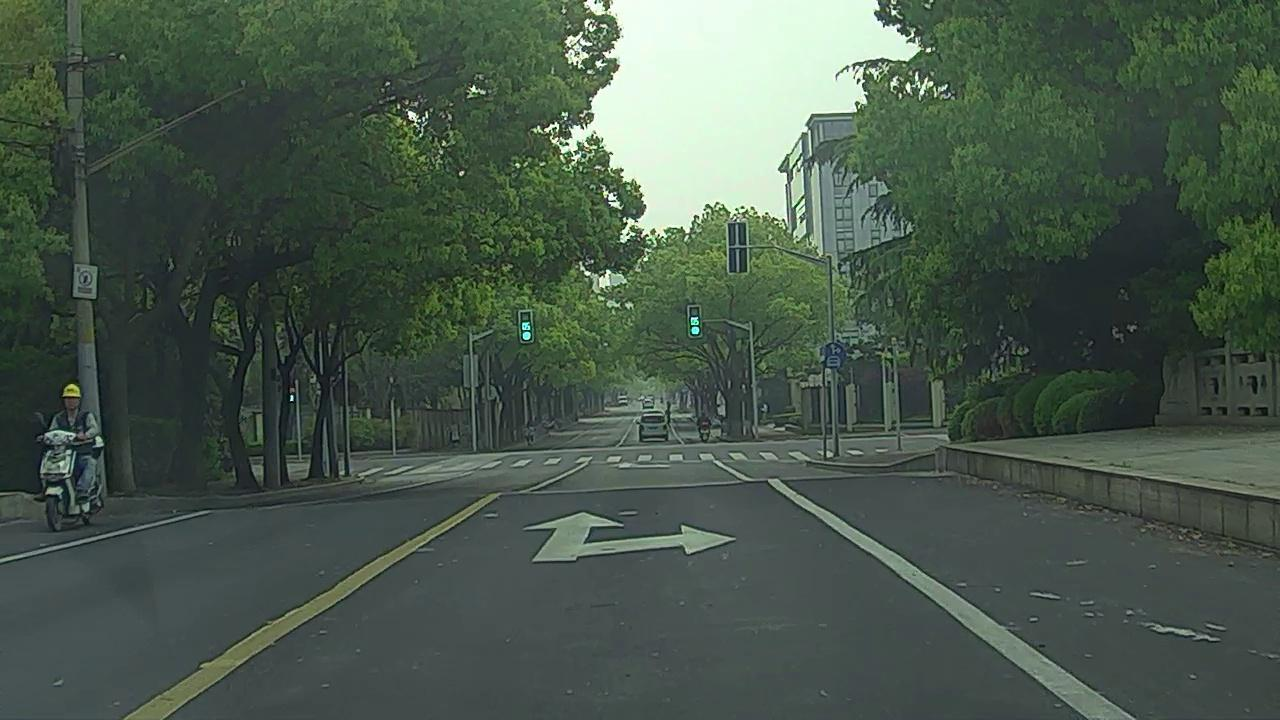traffic_light: (688, 307, 701, 336), (521, 313, 531, 342)
